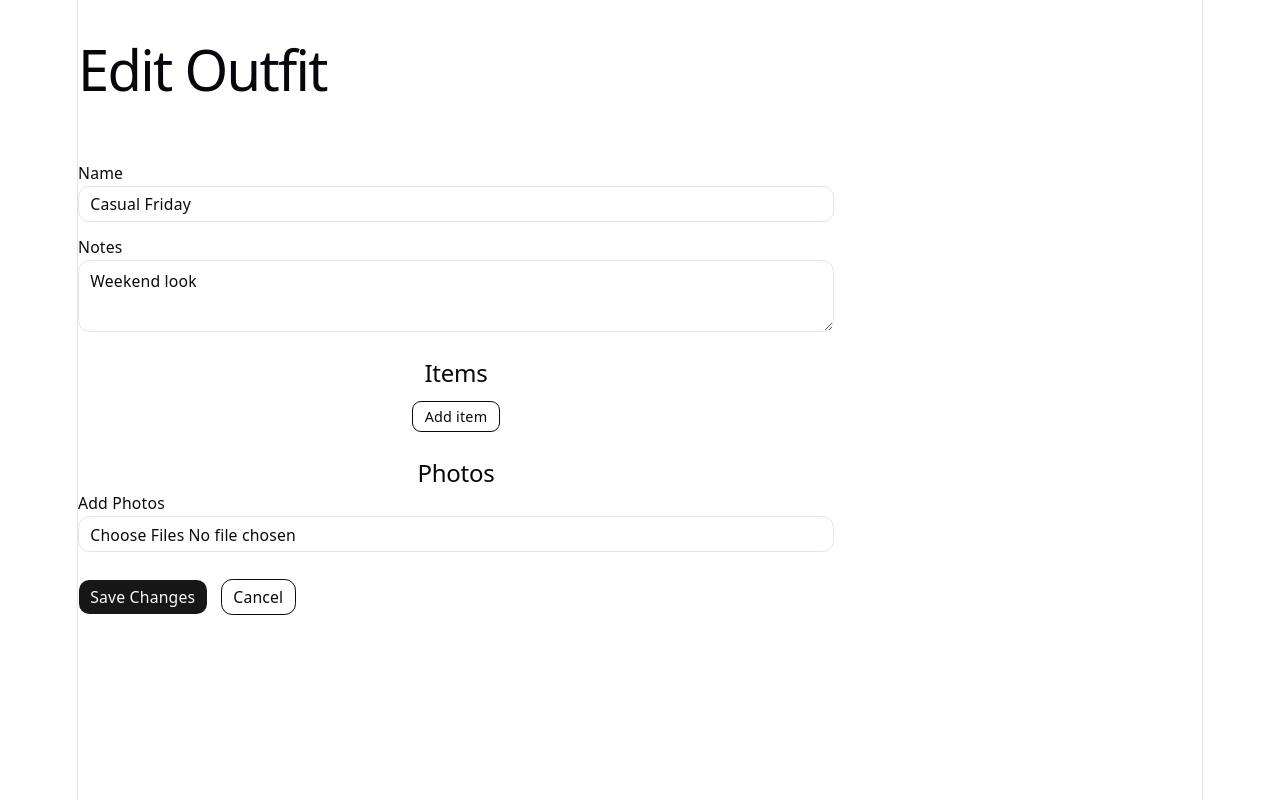
Scenario: EditOutfitPage › EditOutfitPage should open ItemPicker when Add item button is clicked
Check: the field showing "Casual Friday" is shown, box 78,186 -> 834,222
Click the button "Add item": (456, 417) 412,401 -> 500,432
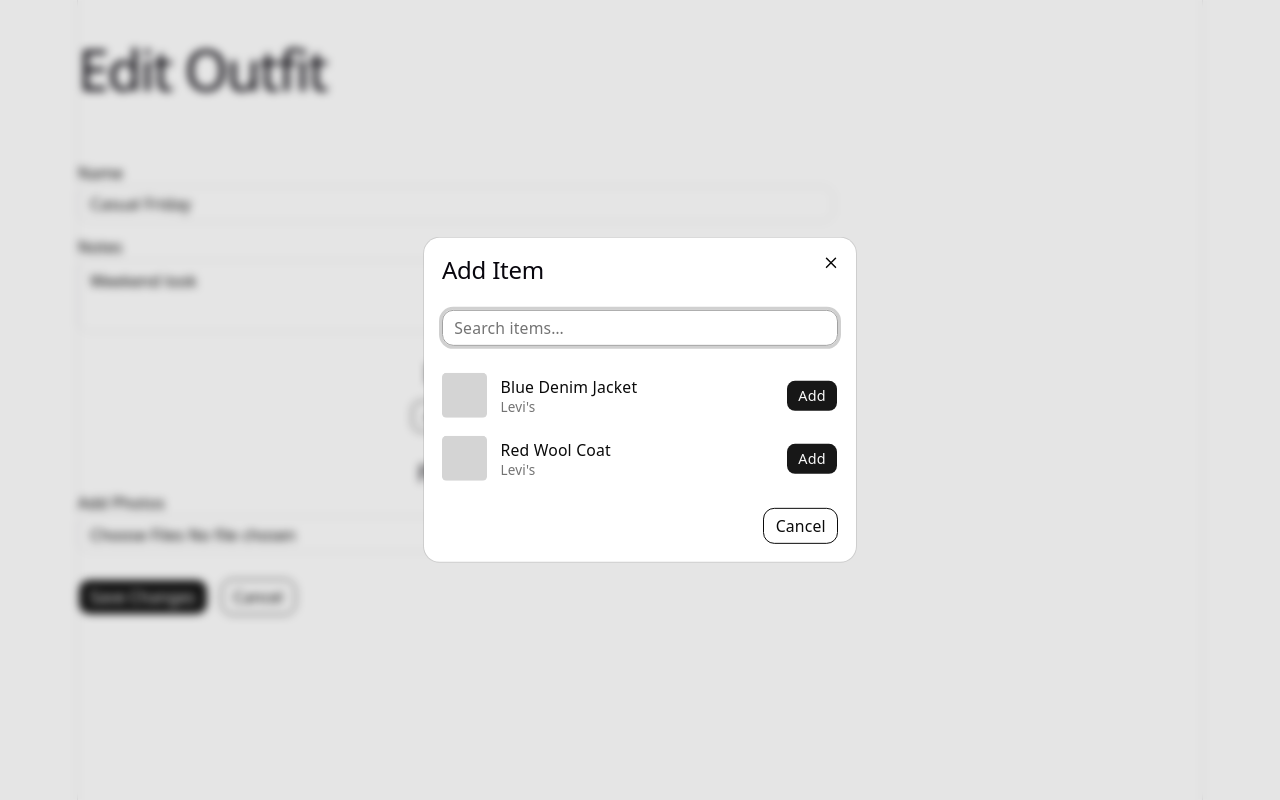
Check: the dialog is shown, box 424,238 -> 856,562
